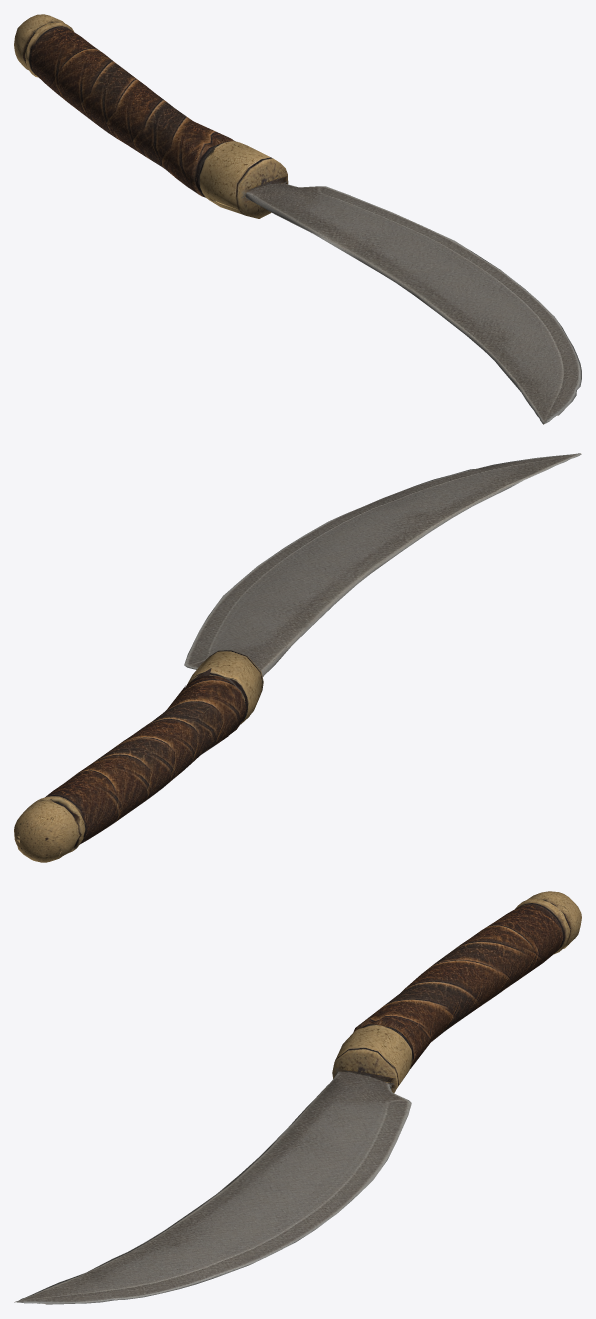
File: mm6_mfp_knife.glb
3 views of the same model, one above another, from view 1: azimuth 30°, elevation 25°; view 2: azimuth 150°, elevation 25°; view 3: azimuth 330°, elevation 25° (orthographic).
Parts seen in each view (by area): view 1: Knife; view 2: Knife; view 3: Knife.
Boxes of the visible parts, bbox=[...] form: Knife: bbox=[14, 14, 581, 424]; Knife: bbox=[14, 453, 581, 862]; Knife: bbox=[14, 891, 581, 1304].
Size of the model in its own units: 0.0478 by 0.0181 by 0.2823.
1 material, 1 textured.
